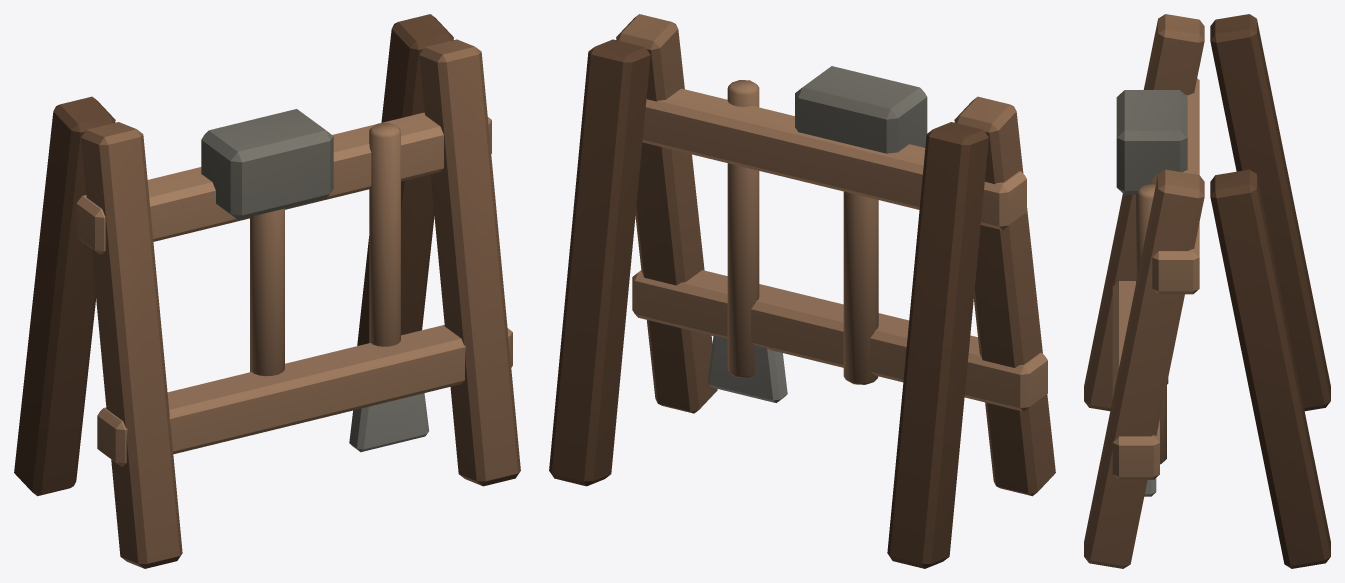
The model's file is tool-rack.glb.
3 views of the same model, side by side, from view 1: azimuth 30°, elevation 25°; view 2: azimuth 150°, elevation 25°; view 3: azimuth 270°, elevation 25° (orthographic). The views are drawn at different scales.
Visible parts, largest first — view 1: tool-rack; view 2: tool-rack; view 3: tool-rack.
Boxes of the visible parts, left/top/right/bottom form: tool-rack: left=14, top=14, right=520, bottom=568; tool-rack: left=549, top=14, right=1055, bottom=568; tool-rack: left=1084, top=14, right=1330, bottom=568.
Bounding box in the file's own units: 0.56 × 0.55 × 0.32.
